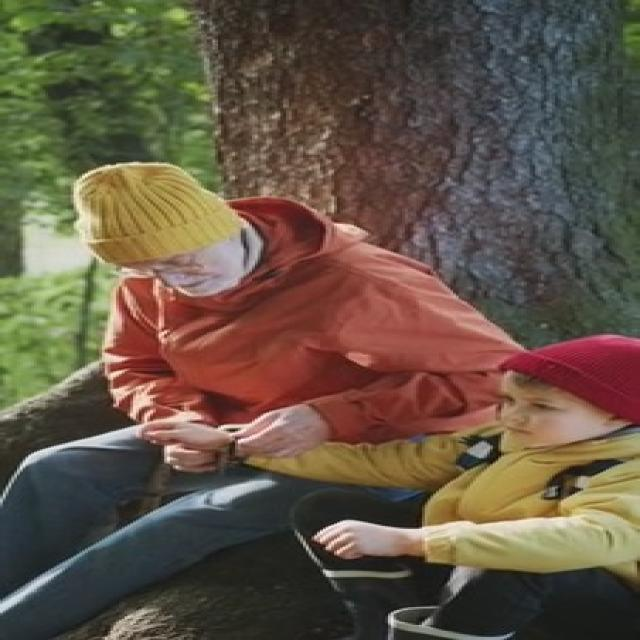Jacket_Wearer: (89, 233, 544, 452)
Person: (37, 140, 540, 560)
